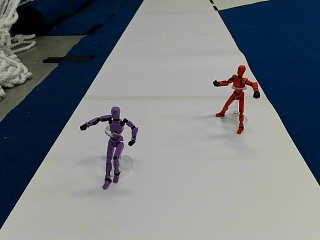pedestrian: (80, 105, 136, 186), (213, 64, 259, 131)
